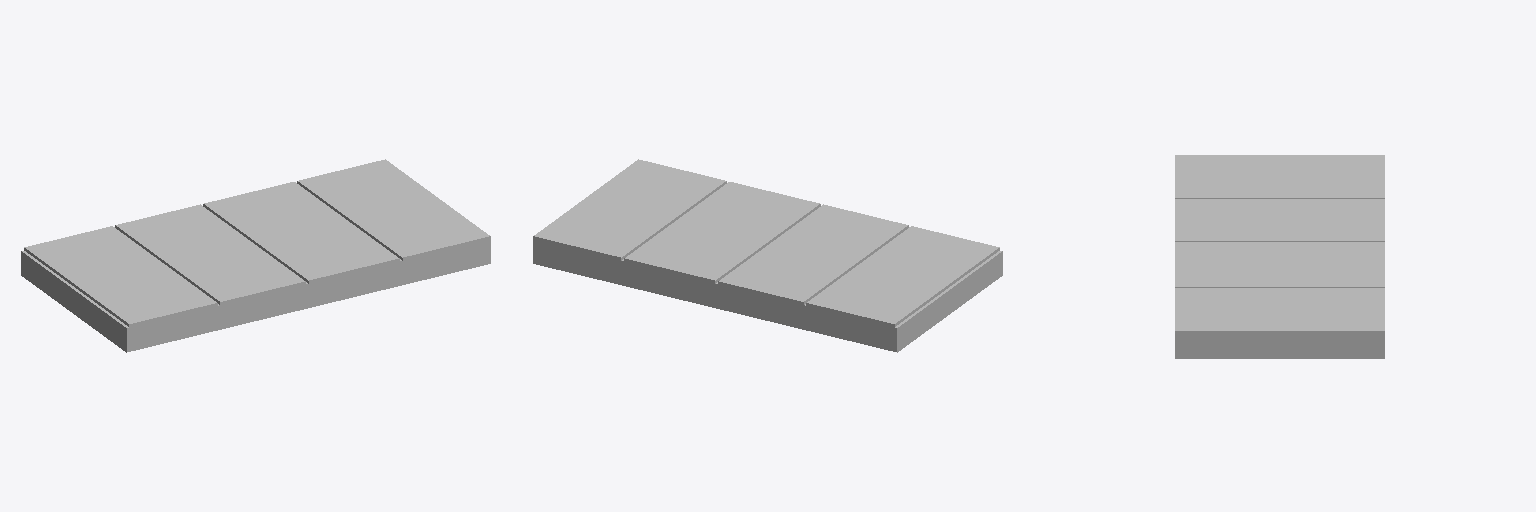
Rendered from tile acera.obj.
The picture shows the model from 3 angles: view 1: azimuth 30°, elevation 25°; view 2: azimuth 150°, elevation 25°; view 3: azimuth 270°, elevation 25°; orthographic projection.
Parts seen in each view (by area): view 1: object 1; view 2: object 1; view 3: object 1.
Part boxes in pixels (bbox=[...]): object 1: bbox=[21, 159, 490, 352]; object 1: bbox=[533, 159, 1002, 352]; object 1: bbox=[1175, 155, 1384, 358].
Bounding box in the file's own units: 12.4 × 0.9 × 6.2.